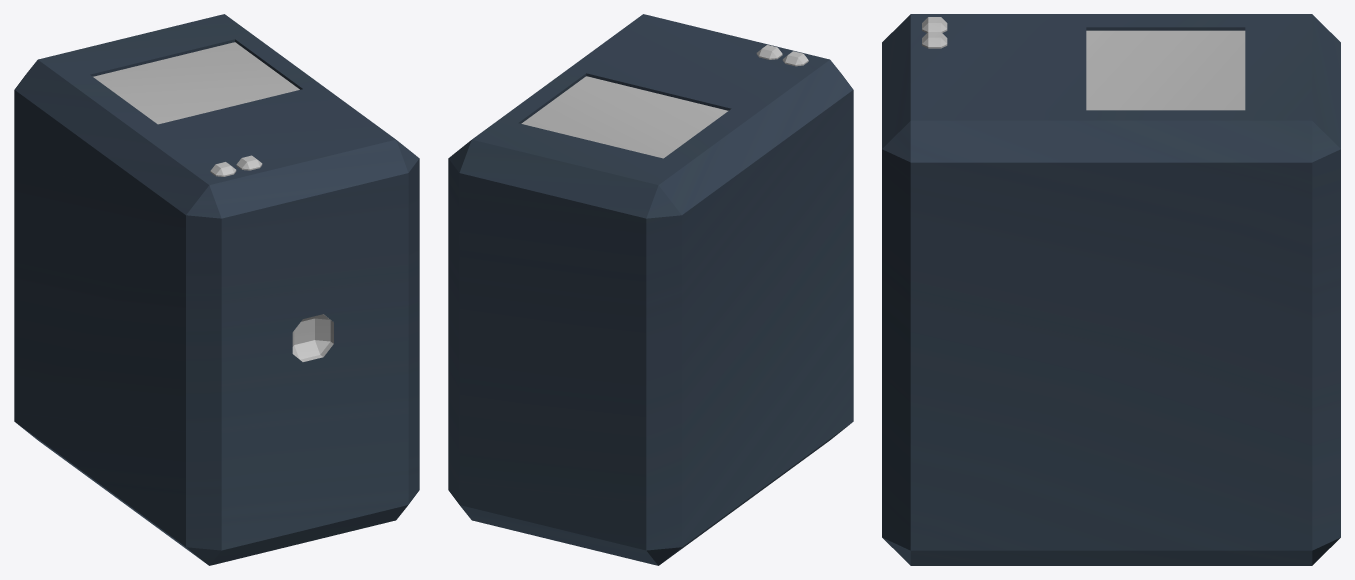
Rendered from Computer_Case.fbx.
The picture shows the model from 3 angles, left to right: view 1: azimuth 30°, elevation 25°; view 2: azimuth 150°, elevation 25°; view 3: azimuth 270°, elevation 25°; orthographic projection. The views are drawn at different scales.
Parts seen in each view (by area): view 1: Computer_Case; view 2: Computer_Case; view 3: Computer_Case.
Part boxes in pixels (box(x1,y1,x2,y2)): Computer_Case: box(14, 14, 419, 565); Computer_Case: box(448, 14, 853, 565); Computer_Case: box(882, 14, 1340, 565).
Size of the model in its own units: 18.84 by 29.87 by 27.41.
